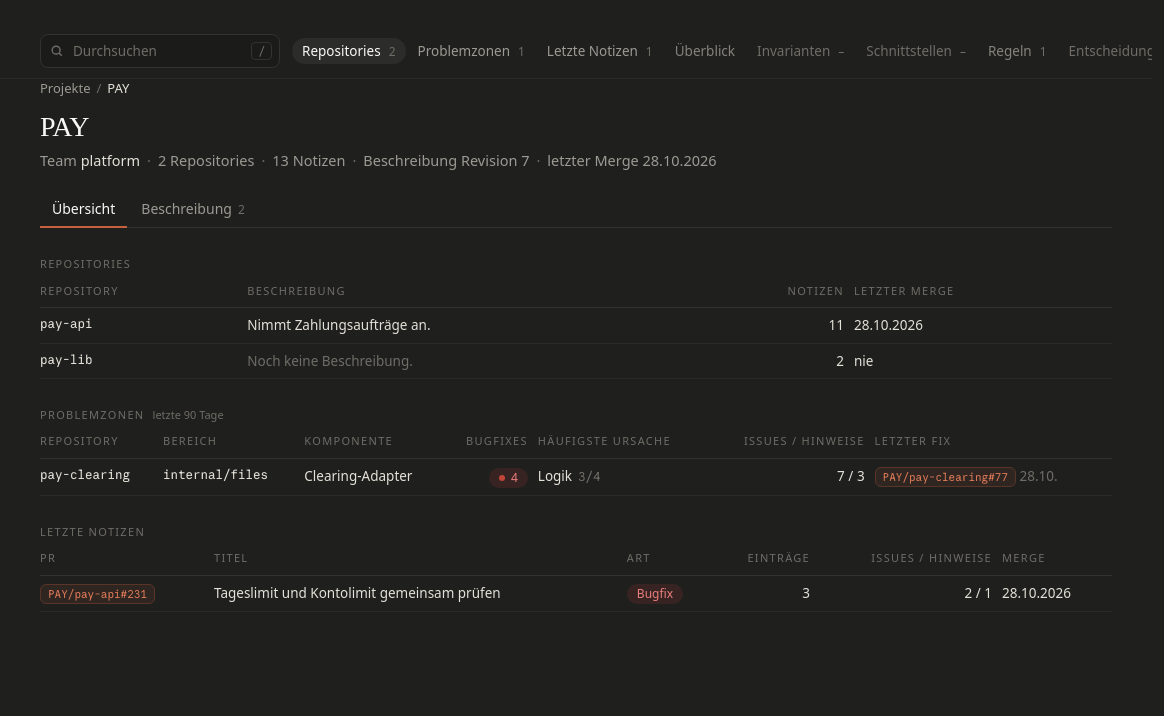
Test: ProjectPage › renders the description as paragraphs, the statements with chips
This screenshot has width=1164, height=716.
Step 1. Click the tab "Beschreibung2" → {"x": 193, "y": 210}, box [129,191,257,228]
(page scrolled)
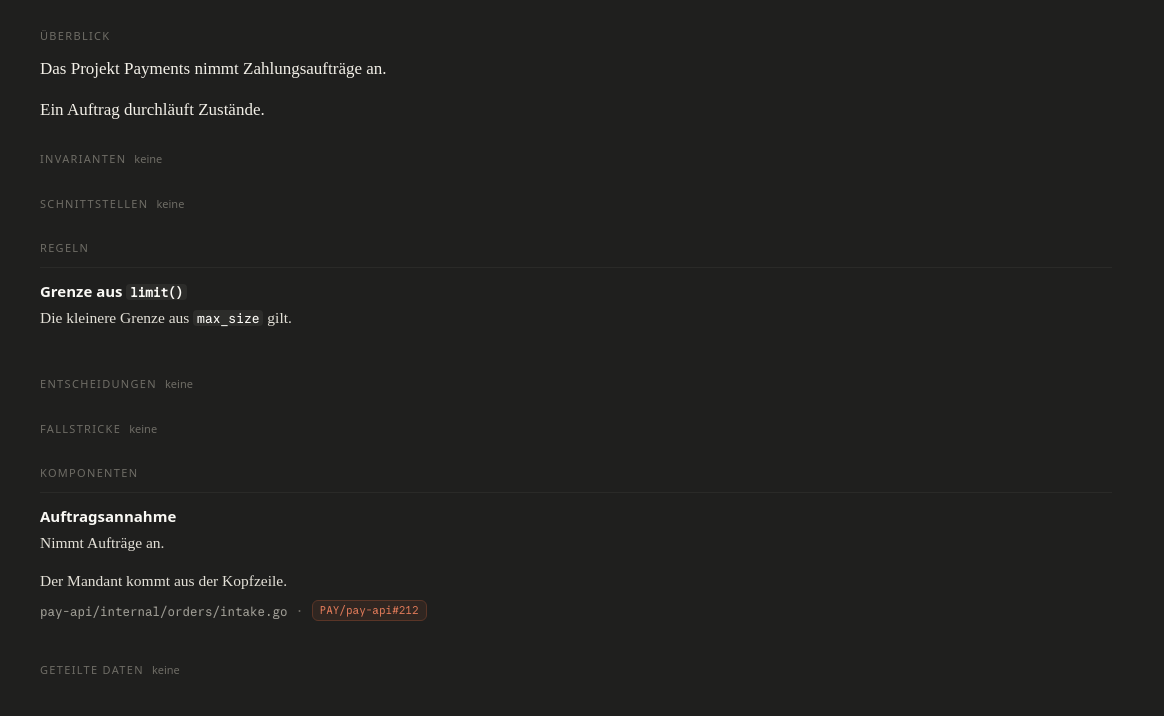
Expected: the text "Das Projekt Payments nimmt Zahlungsaufträge an." is shown, [40,59,386,78]
Expected: the text "Ein Auftrag durchläuft Zustände." is shown, [40,100,265,119]
Expected: the heading "Auftragsannahme" is shown, [40,506,176,526]
